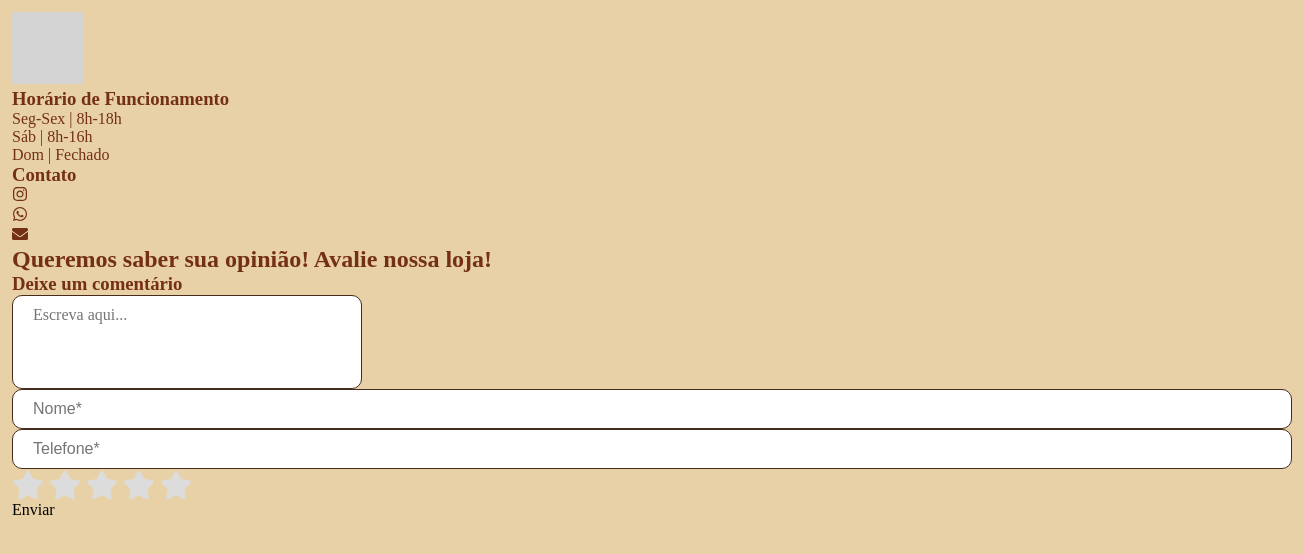
Footer Component › shows a specific error when user has no orders
The image size is (1304, 554).
In the text box with placeholder "Escreva aqui...": (187, 342) [12, 295, 362, 389], type "Teste"
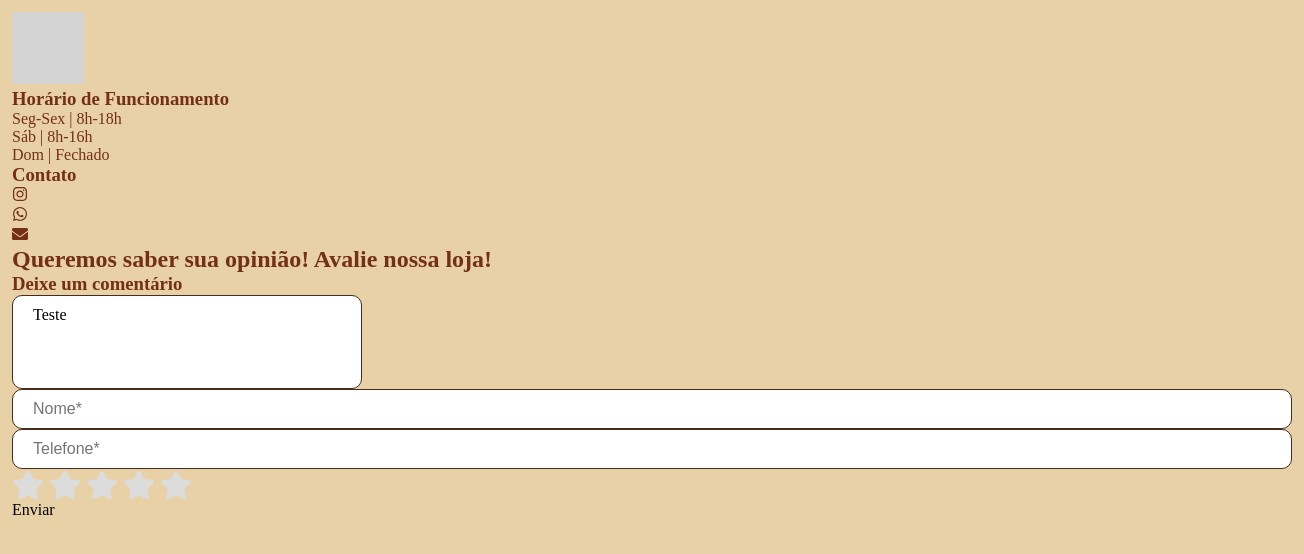
In the field with placeholder "Nome*": (652, 409) [12, 389, 1292, 429], type "Fulano"
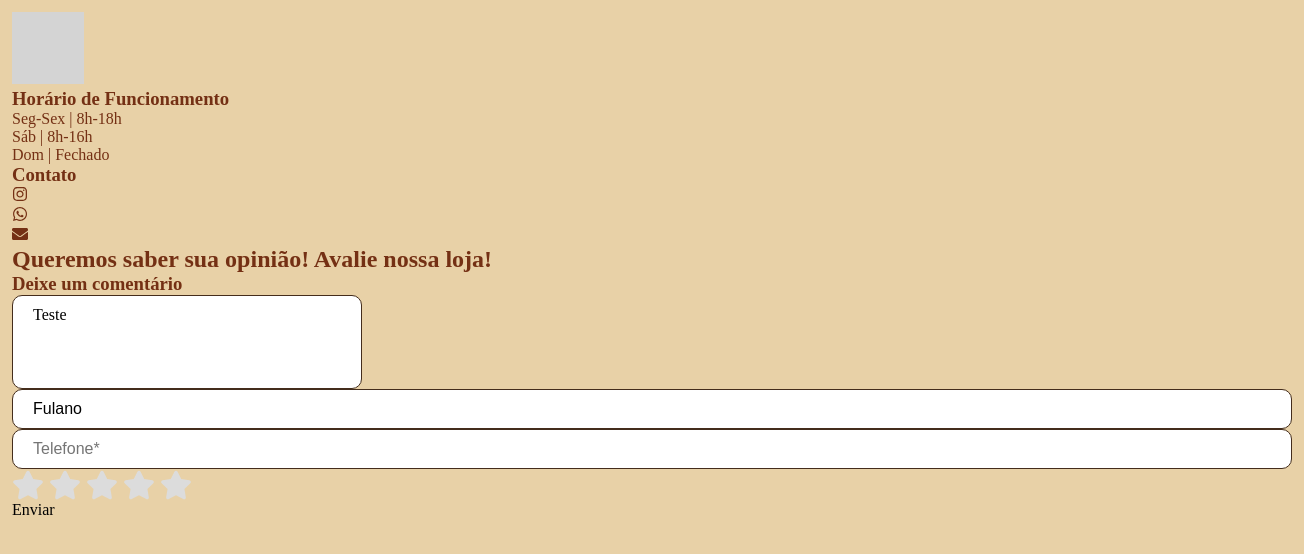
In the field with placeholder "Telefone*": (652, 449) [12, 429, 1292, 469], type "5194035757"
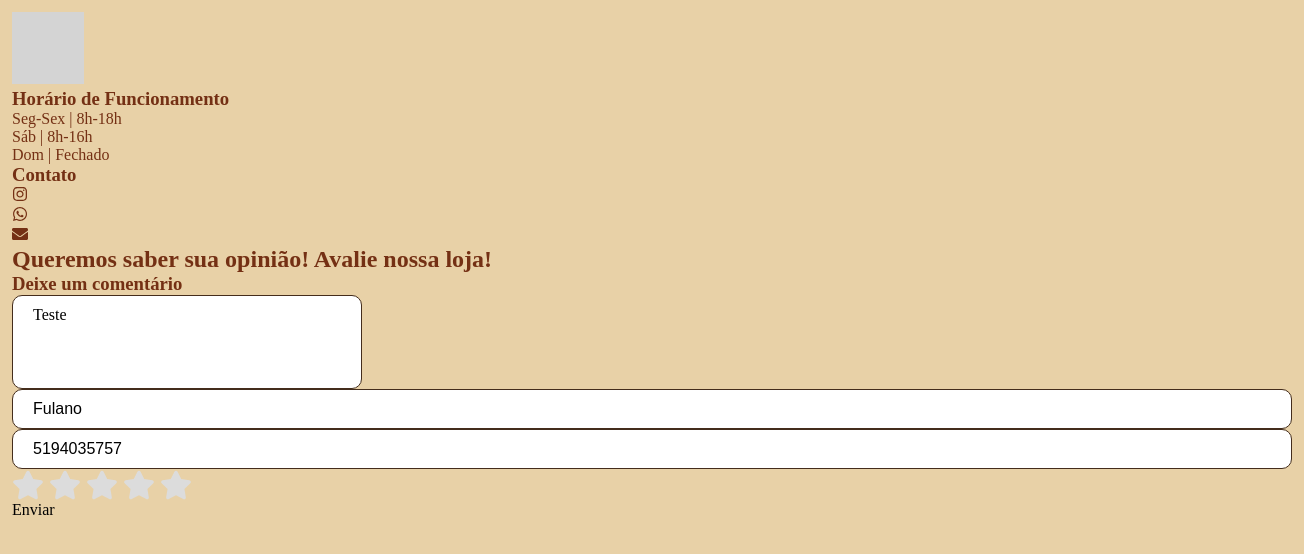
Click the 1st icon with test id "star": click(28, 485) [12, 469, 44, 501]
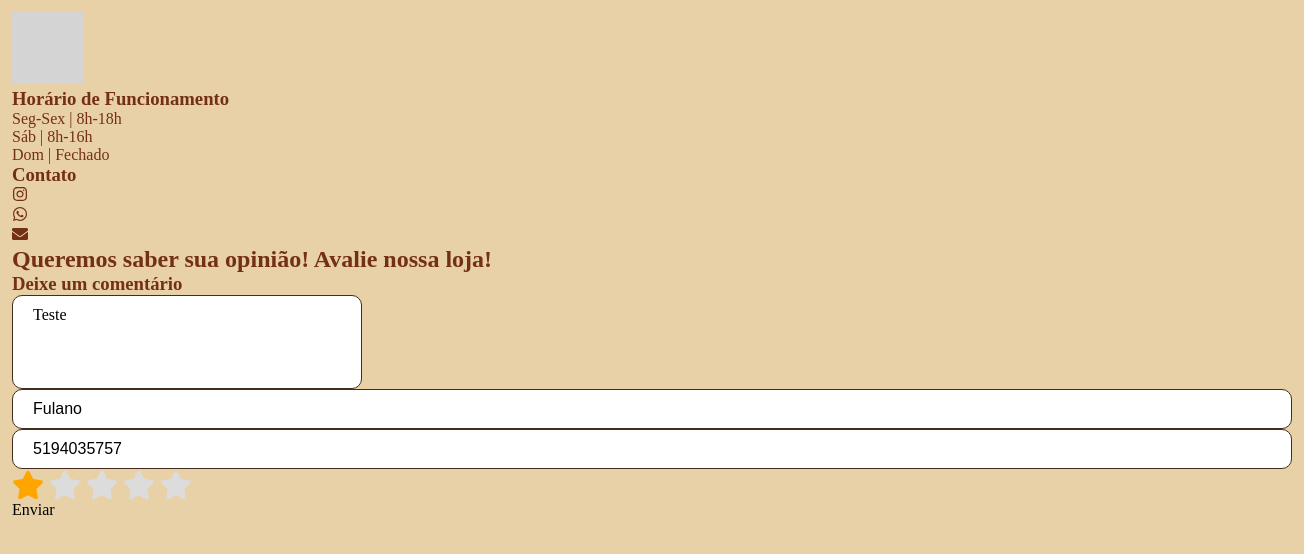
Click the button "Enviar": click(33, 510) [12, 501, 55, 519]
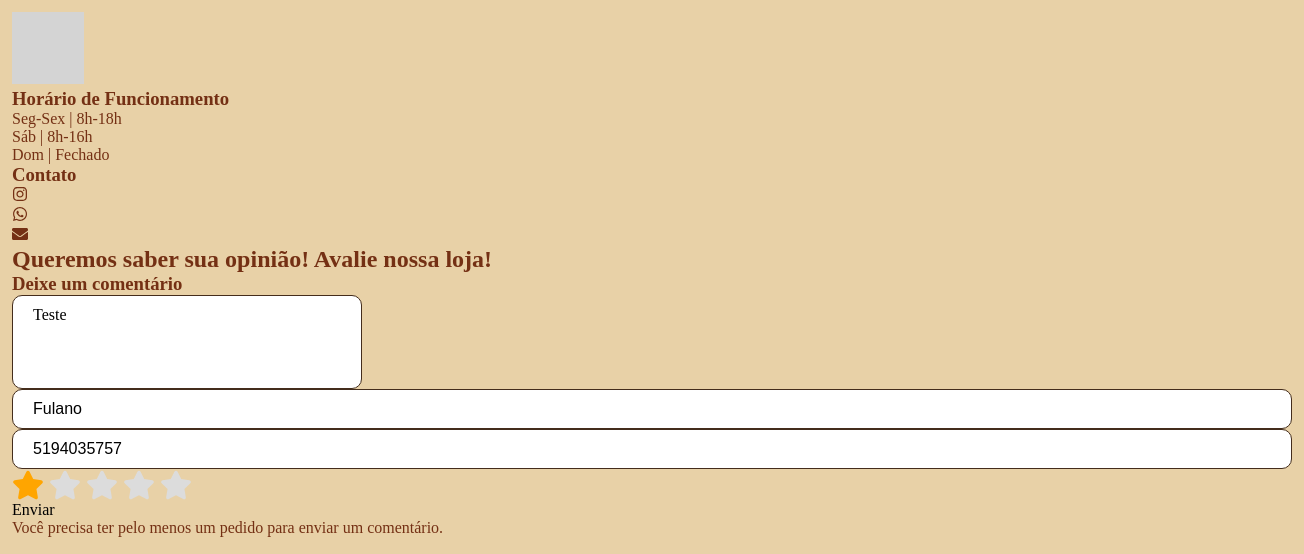
Expected: the text "Você precisa ter pelo menos um pedido para enviar um comentário." is shown, [12, 519, 443, 536]
